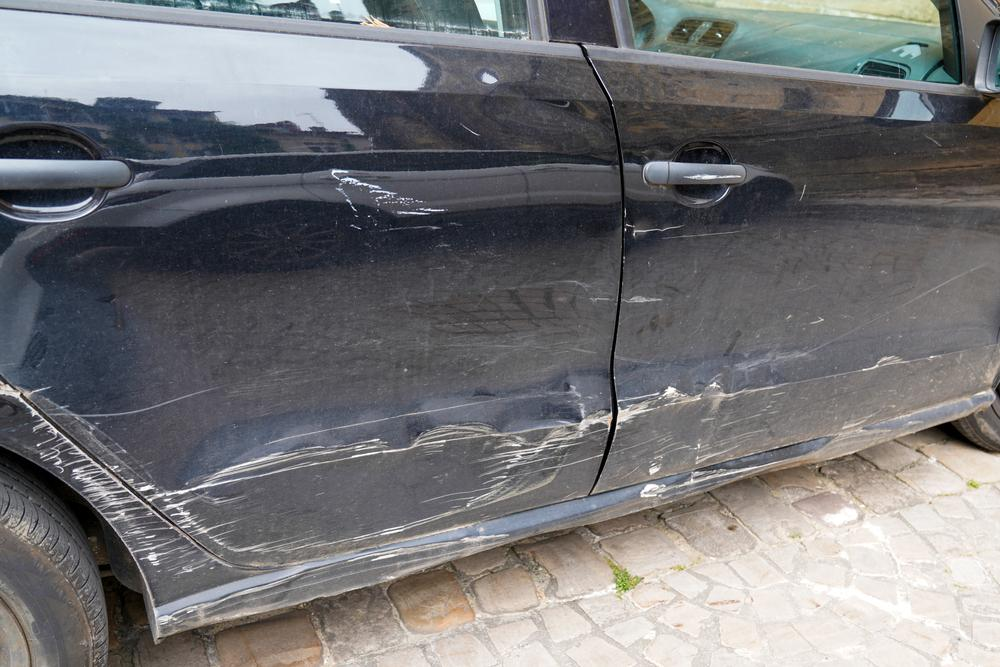dent: (17, 199, 601, 481)
scratch: (0, 376, 611, 558), (616, 349, 940, 485), (0, 376, 217, 569), (158, 533, 507, 636), (329, 168, 458, 244)
